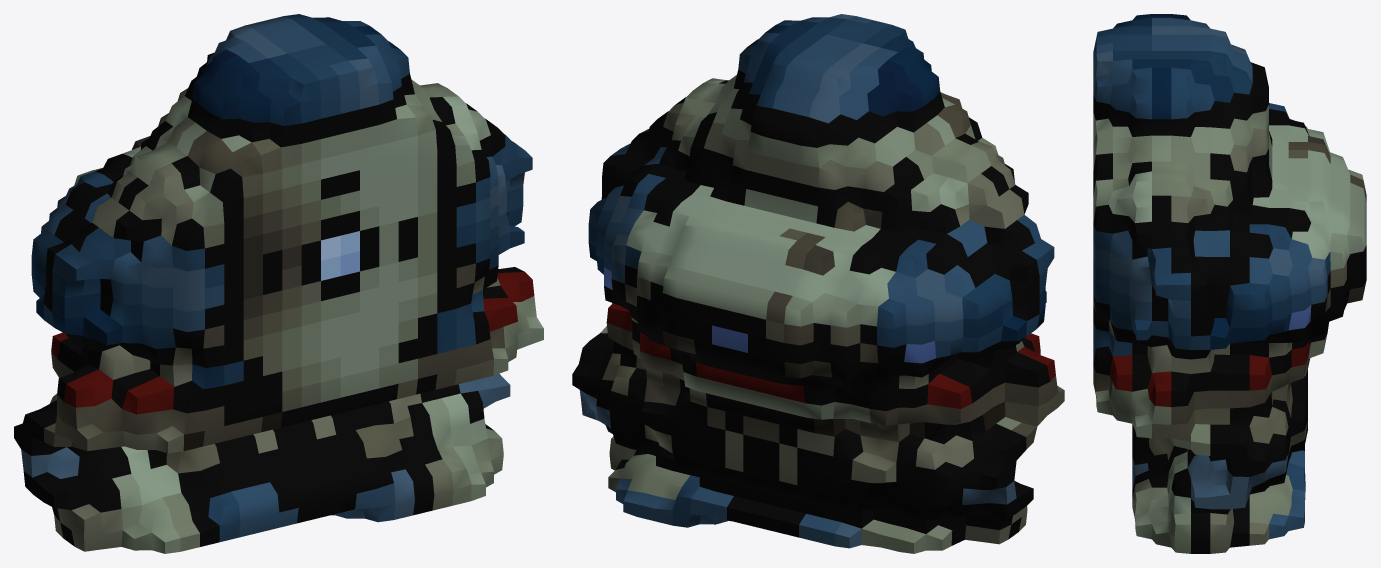
File: Icon_745_01.obj
3 renders of one model, left to right at view 1: azimuth 30°, elevation 25°; view 2: azimuth 150°, elevation 25°; view 3: azimuth 270°, elevation 25°, orthographic. The views are drawn at different scales.
Size of the model in its own units: 2.4 by 2.4 by 1.4.
